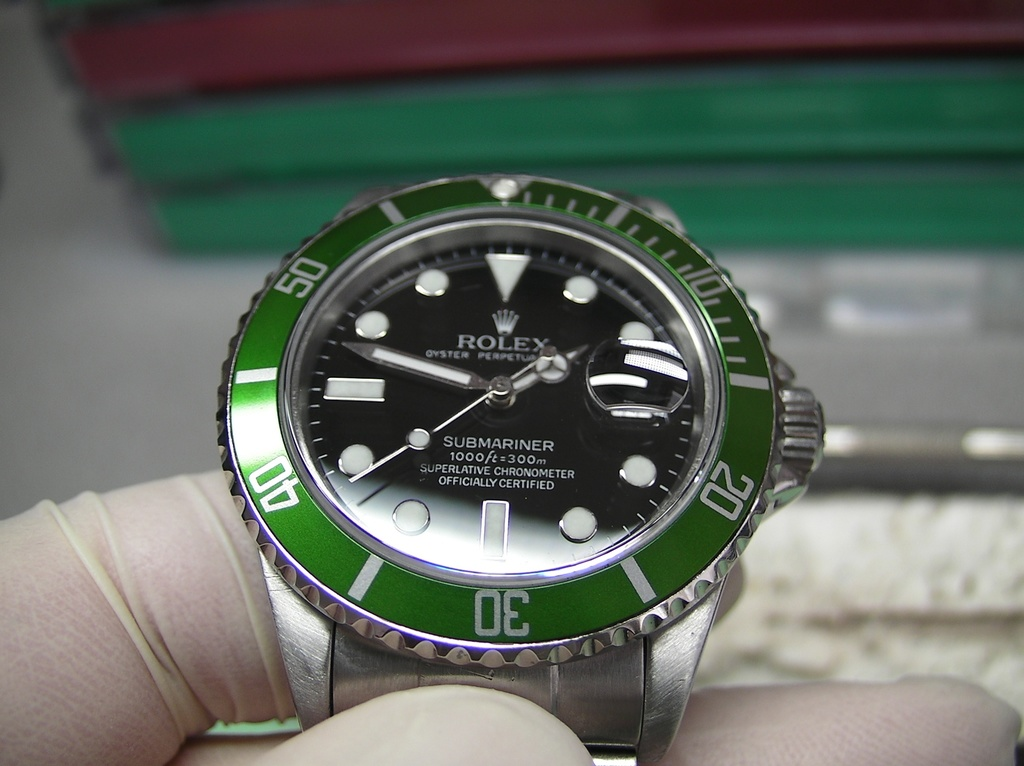watch: (216, 170, 820, 765)
